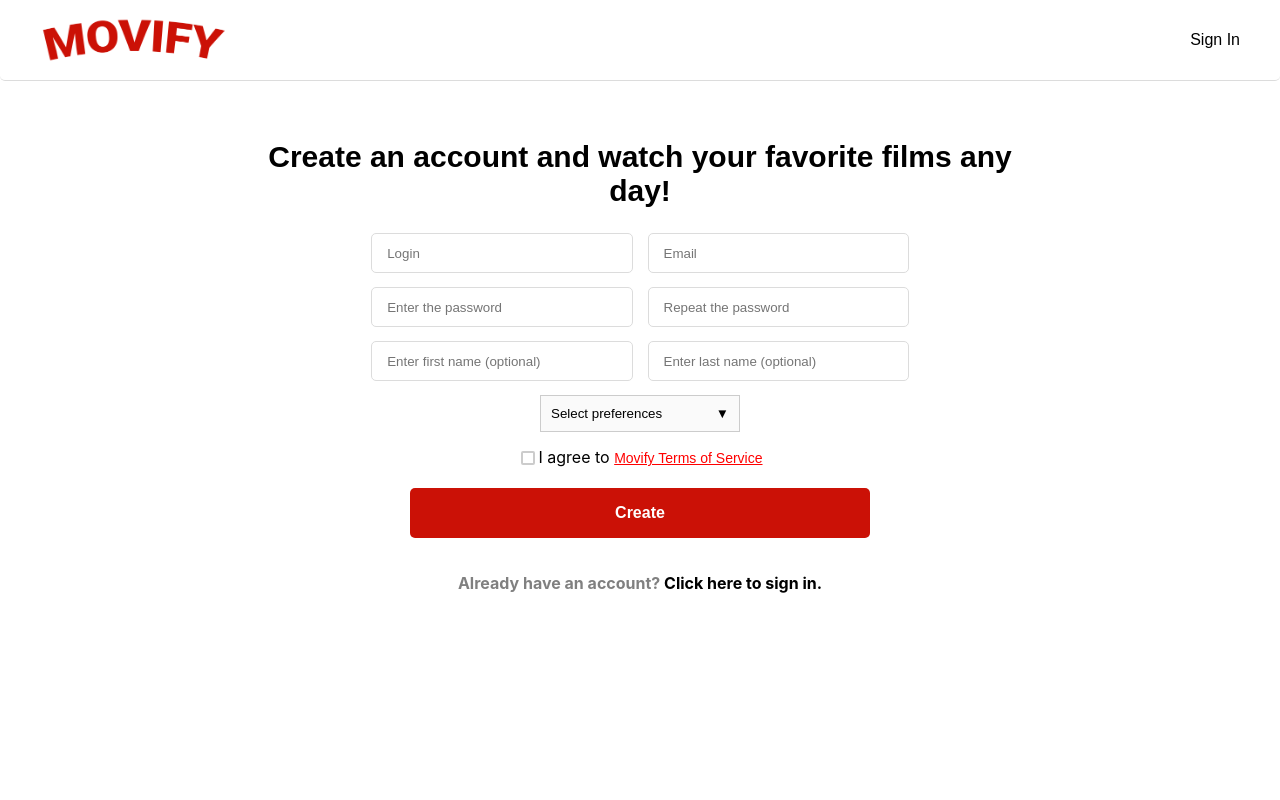
Scenario: Register Component › shows error when login is missing
The image size is (1280, 800).
Step 1. Click the button "Create" → (640,513), box top-left (410, 488), bottom-right (870, 538)
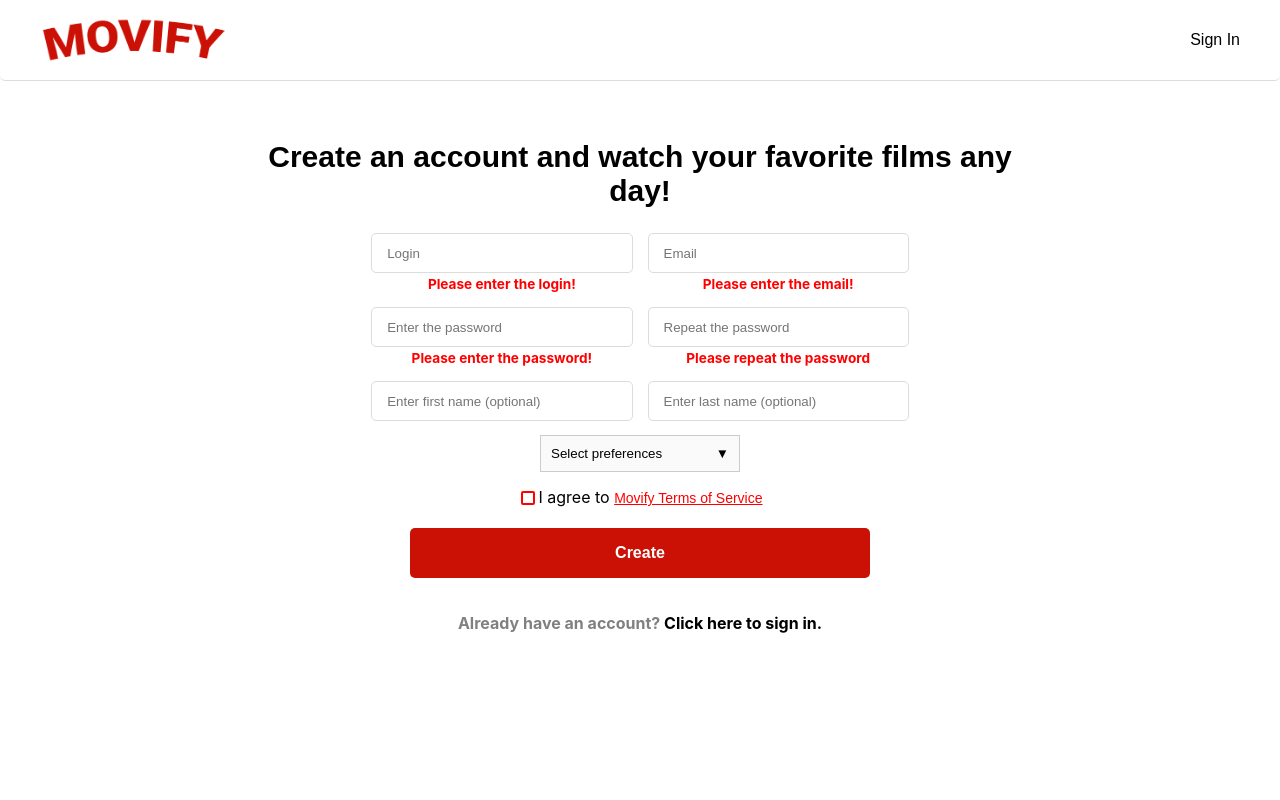
Expected: the text "Please enter the login!" is shown, top-left (428, 276), bottom-right (576, 292)
